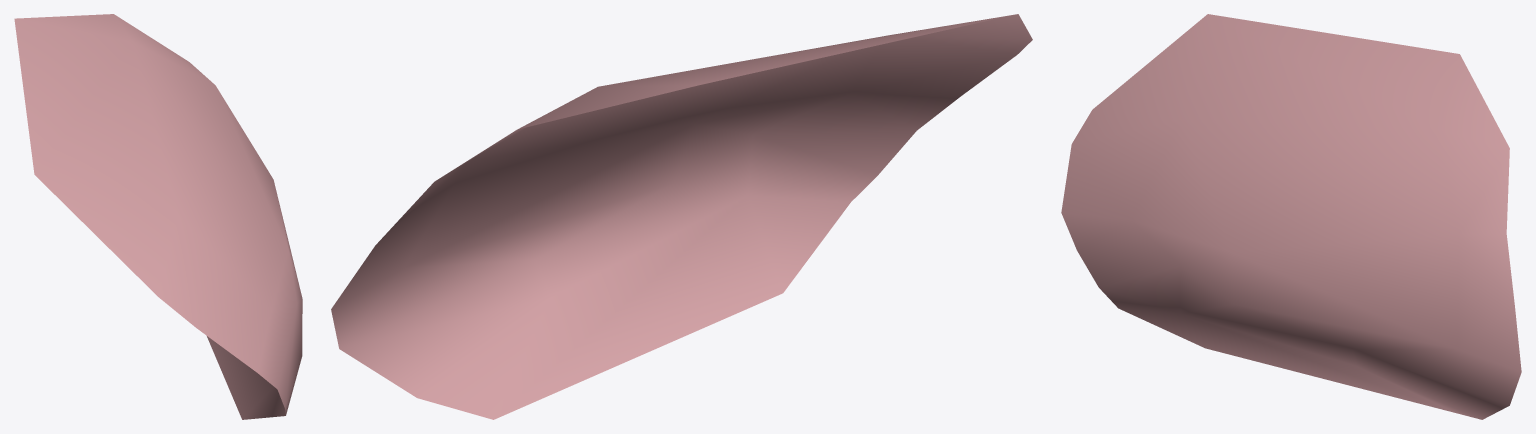
3 renders of one model, left to right at view 1: azimuth 30°, elevation 25°; view 2: azimuth 150°, elevation 25°; view 3: azimuth 270°, elevation 25°, orthographic. The views are drawn at different scales.
Visible parts, largest first — view 1: ZA_f4159e6302948c76; view 2: ZA_f4159e6302948c76; view 3: ZA_f4159e6302948c76.
Part boxes in pixels (left/top/right/bottom): ZA_f4159e6302948c76: left=14, top=14, right=302, bottom=419; ZA_f4159e6302948c76: left=331, top=14, right=1032, bottom=419; ZA_f4159e6302948c76: left=1061, top=14, right=1521, bottom=419.
Size of the model in its own units: 0.00488 by 0.0038 by 0.00557.
